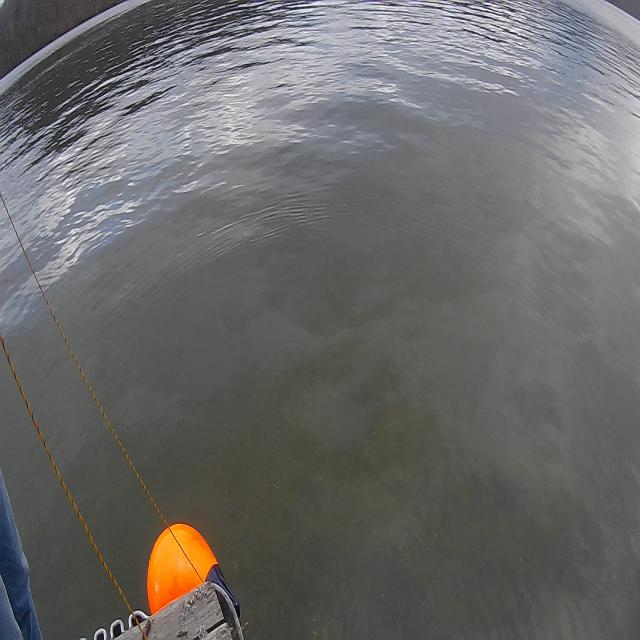Buoy: (140, 511, 244, 624)
